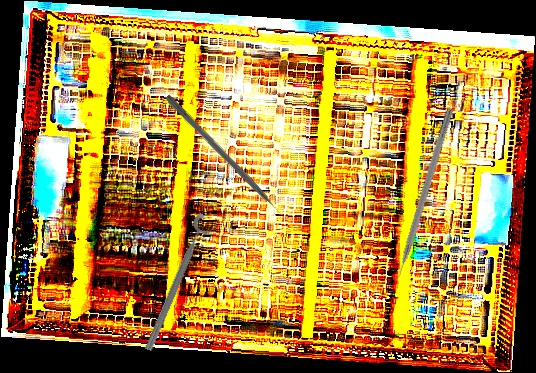Chopper: (382, 105, 454, 289)
Fixation Ring: (140, 212, 220, 356)
Pusher: (163, 93, 291, 226)
